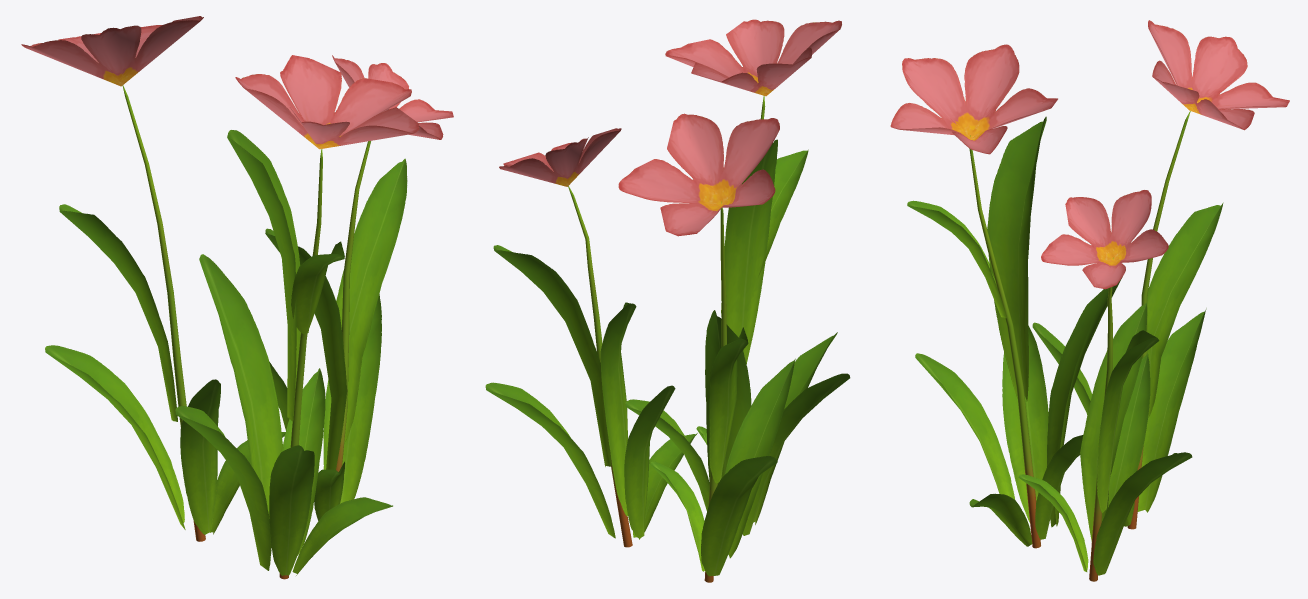
3 renders of one model, left to right at view 1: azimuth 30°, elevation 25°; view 2: azimuth 150°, elevation 25°; view 3: azimuth 270°, elevation 25°, orthographic. The views are drawn at different scales.
Visible parts, largest first — view 1: 9fc18883fbbb6e6c076af12dc2e7cd07bcbc9d050222fea57bc1994aca0b; view 2: 9fc18883fbbb6e6c076af12dc2e7cd07bcbc9d050222fea57bc1994aca0b; view 3: 9fc18883fbbb6e6c076af12dc2e7cd07bcbc9d050222fea57bc1994aca0b.
Boxes of the visible parts, left/top/right/bottom form: 9fc18883fbbb6e6c076af12dc2e7cd07bcbc9d050222fea57bc1994aca0b: left=21, top=16, right=453, bottom=579; 9fc18883fbbb6e6c076af12dc2e7cd07bcbc9d050222fea57bc1994aca0b: left=485, top=19, right=850, bottom=582; 9fc18883fbbb6e6c076af12dc2e7cd07bcbc9d050222fea57bc1994aca0b: left=890, top=20, right=1289, bottom=581.
Size of the model in its own units: 1.49 by 2.05 by 1.59.
2 materials, 2 textured.
